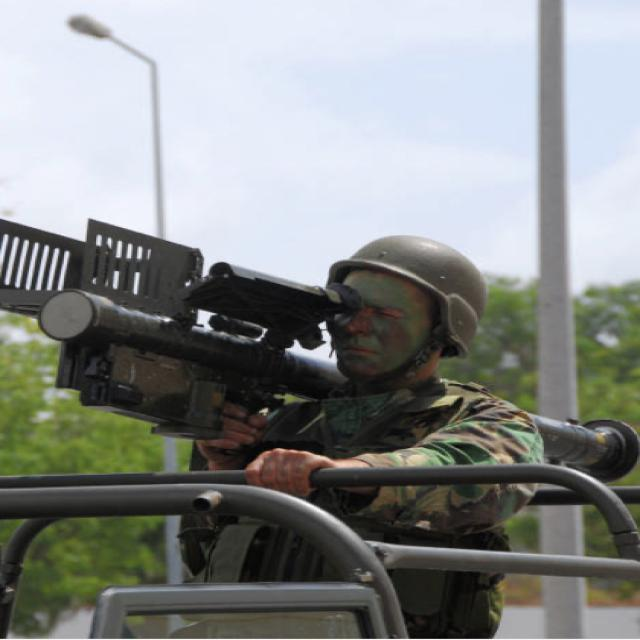bazooka: (15, 200, 640, 513)
